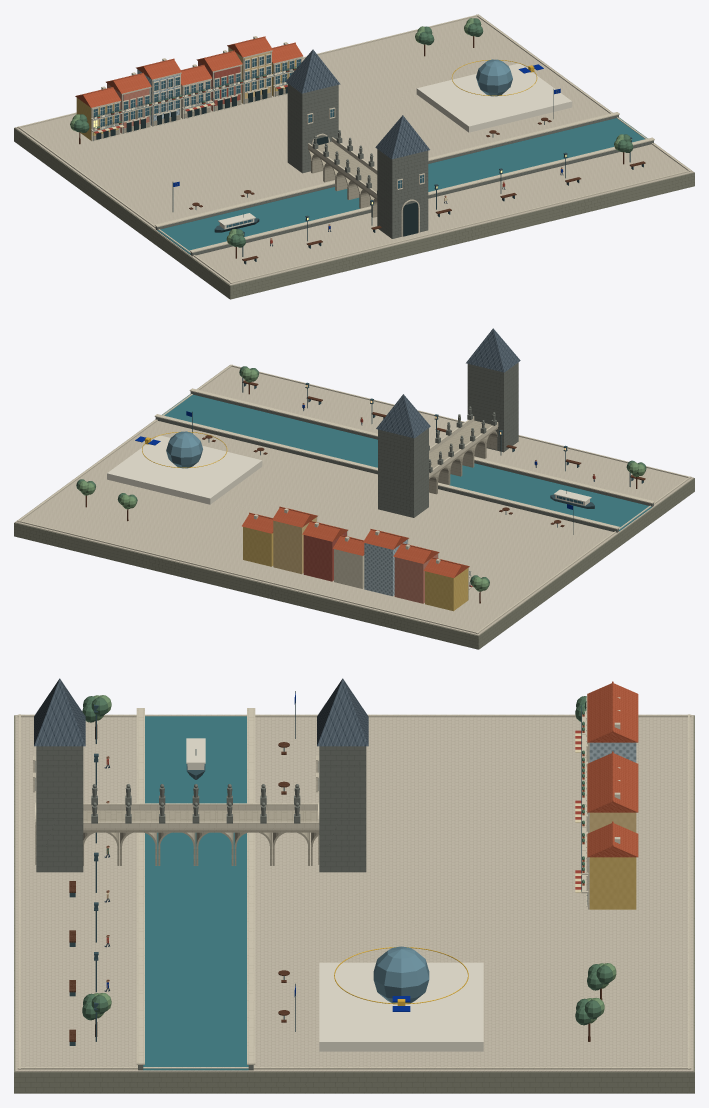
The model's file is praga-reference.glb.
The picture shows the model from 3 angles, top to bottom: view 1: azimuth 30°, elevation 25°; view 2: azimuth 150°, elevation 25°; view 3: azimuth 270°, elevation 25°; orthographic projection. The views are drawn at different scales.
Parts seen in each view (by area): view 1: praga_arquitetura_Calcada portuguesa, praga_arquitetura_Cantaria clara, praga_arquitetura_Douro agua, praga_arquitetura_Muralha de granito, praga_arquitetura_Corte de terreno, praga_arquitetura_Marfim pintado, praga_arquitetura_Telha ceramica, praga_arquitetura_Granito do cais, praga_arquitetura_Ardosia europeia, praga_arquitetura_Vidro das janelas, praga_arquitetura_Vao de janela, praga_arquitetura_Ferro pintado da ponte (+6 smaller); view 2: praga_arquitetura_Calcada portuguesa, praga_arquitetura_Muralha de granito, praga_arquitetura_Douro agua, praga_arquitetura_Corte de terreno, praga_arquitetura_Cantaria clara, praga_arquitetura_Marfim pintado, praga_arquitetura_Telha ceramica, praga_arquitetura_Ardosia europeia, praga_arquitetura_Reboco ocre, praga_arquitetura_Granito do cais, praga_arquitetura_Azulejo azul e branco, praga_arquitetura_Reboco amarelo (+7 smaller); view 3: praga_arquitetura_Calcada portuguesa, praga_arquitetura_Douro agua, praga_arquitetura_Cantaria clara, praga_arquitetura_Corte de terreno, praga_arquitetura_Muralha de granito, praga_arquitetura_Marfim pintado, praga_arquitetura_Telha ceramica, praga_arquitetura_Ardosia europeia, praga_arquitetura_Granito do cais, praga_arquitetura_Folhagem, praga_arquitetura_Reboco ocre, praga_arquitetura_Vidro institucional (+4 smaller).
Part boxes in pixels (x1,y1,x2,y2): praga_arquitetura_Calcada portuguesa: [15, 14, 693, 285]; praga_arquitetura_Cantaria clara: [17, 14, 691, 283]; praga_arquitetura_Douro agua: [157, 118, 647, 254]; praga_arquitetura_Muralha de granito: [155, 83, 653, 256]; praga_arquitetura_Corte de terreno: [14, 127, 694, 299]; praga_arquitetura_Marfim pintado: [94, 55, 572, 187]; praga_arquitetura_Telha ceramica: [75, 36, 303, 129]; praga_arquitetura_Granito do cais: [92, 89, 377, 217]; praga_arquitetura_Ardosia europeia: [285, 49, 429, 159]; praga_arquitetura_Vidro das janelas: [93, 55, 423, 188]; praga_arquitetura_Vao de janela: [94, 57, 423, 236]; praga_arquitetura_Ferro pintado da ponte: [93, 58, 643, 264]; praga_arquitetura_Calcada portuguesa: [15, 365, 693, 635]; praga_arquitetura_Muralha de granito: [155, 362, 653, 532]; praga_arquitetura_Douro agua: [162, 394, 651, 531]; praga_arquitetura_Corte de terreno: [14, 478, 694, 649]; praga_arquitetura_Cantaria clara: [17, 364, 691, 634]; praga_arquitetura_Marfim pintado: [107, 435, 262, 504]; praga_arquitetura_Telha ceramica: [242, 506, 469, 577]; praga_arquitetura_Ardosia europeia: [376, 328, 520, 438]; praga_arquitetura_Reboco ocre: [243, 527, 468, 611]; praga_arquitetura_Granito do cais: [429, 420, 497, 494]; praga_arquitetura_Azulejo azul e branco: [364, 539, 407, 596]; praga_arquitetura_Reboco amarelo: [273, 517, 316, 574]; praga_arquitetura_Calcada portuguesa: [15, 715, 693, 1071]; praga_arquitetura_Douro agua: [143, 716, 248, 1070]; praga_arquitetura_Cantaria clara: [17, 694, 691, 1069]; praga_arquitetura_Corte de terreno: [14, 715, 694, 1093]; praga_arquitetura_Muralha de granito: [36, 746, 366, 1070]; praga_arquitetura_Marfim pintado: [319, 962, 483, 1051]; praga_arquitetura_Telha ceramica: [582, 681, 638, 885]; praga_arquitetura_Ardosia europeia: [34, 678, 368, 746]; praga_arquitetura_Granito do cais: [83, 810, 319, 865]; praga_arquitetura_Folhagem: [82, 696, 613, 1025]; praga_arquitetura_Reboco ocre: [589, 857, 636, 909]; praga_arquitetura_Vidro institucional: [373, 946, 429, 1003].
Bounding box in the file's own units: 72 × 19 × 58.
Materials: 29 (14 with a texture image).
